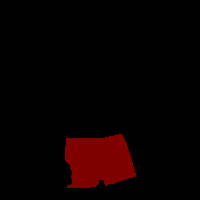mutande: (65, 133, 136, 188)
